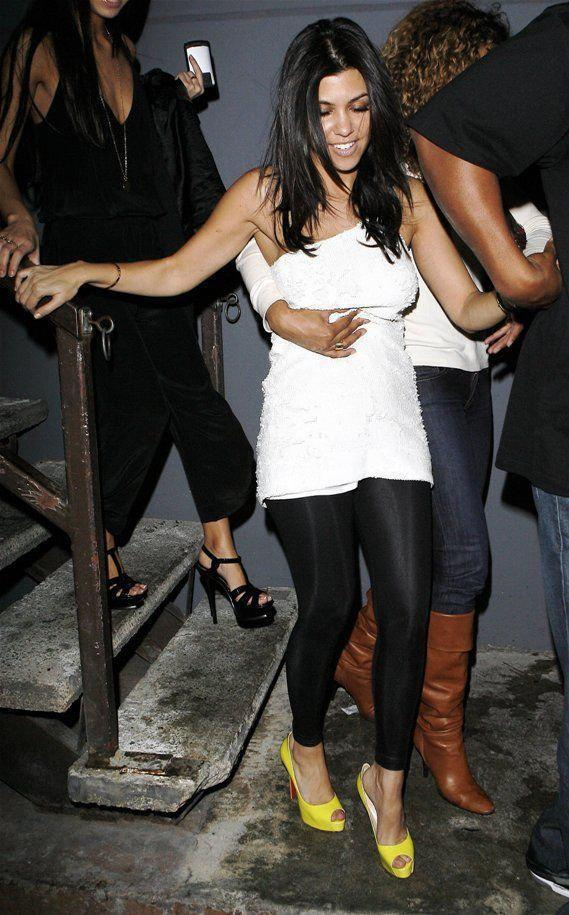Drunk: (301, 68, 379, 179)
